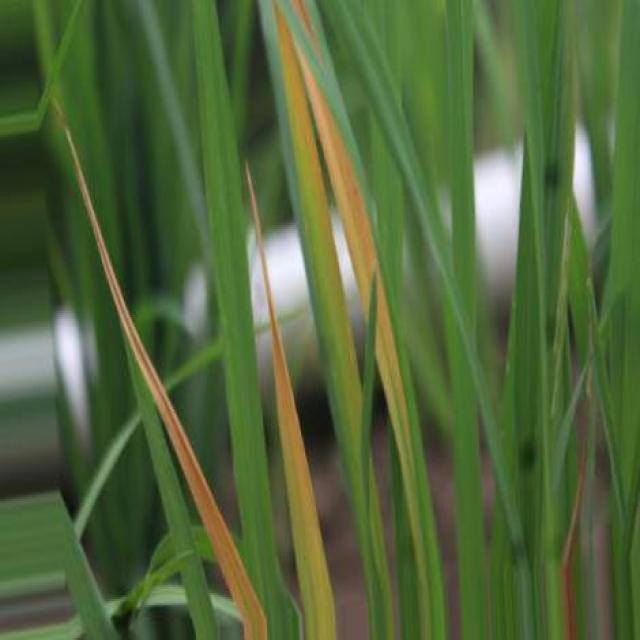Rice Tungro: (54, 101, 266, 639), (273, 0, 445, 638), (263, 4, 391, 638), (247, 163, 335, 639)
